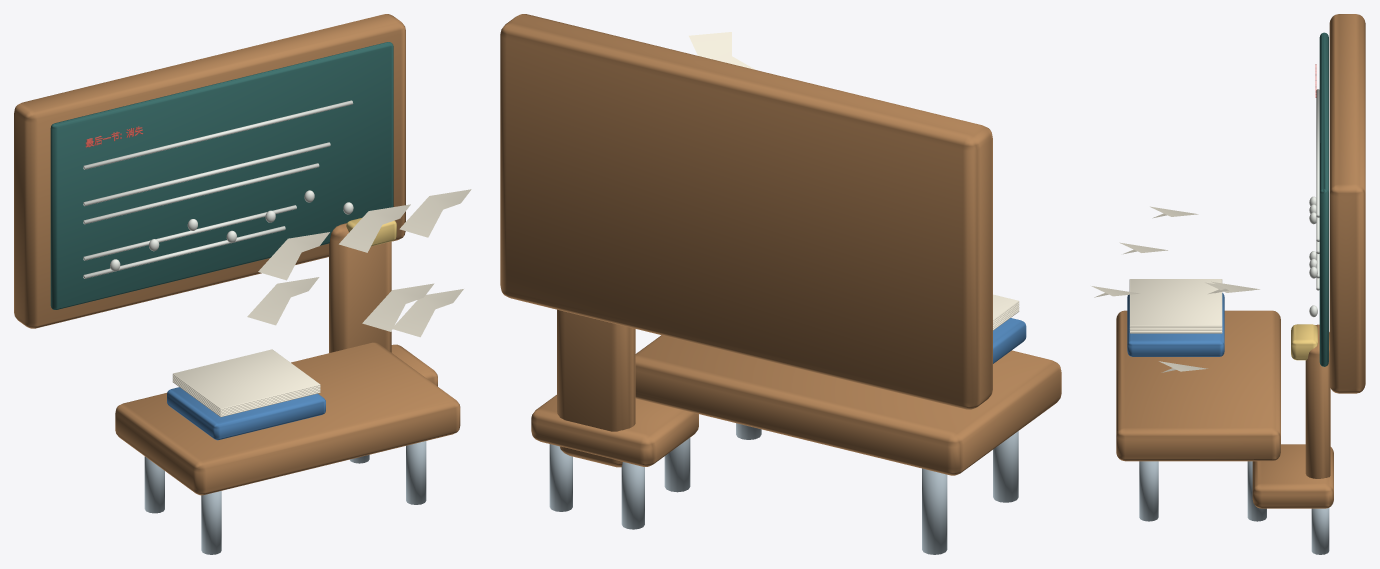
The model's file is X07_Vanishing_Last_Classroom_Lesson.glb.
3 renders of one model, left to right at view 1: azimuth 30°, elevation 25°; view 2: azimuth 150°, elevation 25°; view 3: azimuth 270°, elevation 25°, orthographic. The views are drawn at different scales.
Visible parts, largest first — view 1: X07 actual dark green board usable painting inset, X07 real blackboard behind vanished final classroom period, X07 actual original school vintage three-legged desk, X07_PAGES_ACTOR | Aged cream classroom note paper, X07_CHAIR_ACTOR | School historic walnut desk real wood, X07_DISAPPEARING_TEXT_ACTOR | Chalk ivory chalk residue draw, X07_TEXTBOOK_ACTOR | Aged cream classroom note paper, X07 school final period hardback textbook cover, X07_DESK_ACTOR | School stainless desk leg and analog hinge; view 2: X07 real blackboard behind vanished final classroom period, X07 actual original school vintage three-legged desk, X07_CHAIR_ACTOR | School historic walnut desk real wood, X07_DESK_ACTOR | School stainless desk leg and analog hinge, X07_CHAIR_ACTOR | School stainless desk leg and analog hinge, X07_PAGES_ACTOR | Aged cream classroom note paper, X07 school final period hardback textbook cover; view 3: X07 actual original school vintage three-legged desk, X07 real blackboard behind vanished final classroom period, X07_CHAIR_ACTOR | School historic walnut desk real wood, X07_TEXTBOOK_ACTOR | Aged cream classroom note paper, X07 actual dark green board usable painting inset, X07 school final period hardback textbook cover, X07_DESK_ACTOR | School stainless desk leg and analog hinge, X07_PAGES_ACTOR | Aged cream classroom note paper, X07_DISAPPEARING_TEXT_ACTOR | Chalk ivory chalk residue draw, X07_CHAIR_ACTOR | School stainless desk leg and analog hinge, X07 last lesson classroom actual brass end of day bell.
Part boxes in pixels (left/top/right/bottom): X07 actual dark green board usable painting inset: left=50, top=42, right=393, bottom=309; X07 real blackboard behind vanished final classroom period: left=14, top=14, right=405, bottom=328; X07 actual original school vintage three-legged desk: left=115, top=342, right=460, bottom=495; X07_PAGES_ACTOR | Aged cream classroom note paper: left=247, top=189, right=471, bottom=337; X07_CHAIR_ACTOR | School historic walnut desk real wood: left=329, top=223, right=437, bottom=386; X07_DISAPPEARING_TEXT_ACTOR | Chalk ivory chalk residue draw: left=83, top=100, right=353, bottom=278; X07_TEXTBOOK_ACTOR | Aged cream classroom note paper: left=172, top=349, right=320, bottom=417; X07 school final period hardback textbook cover: left=167, top=387, right=325, bottom=440; X07_DESK_ACTOR | School stainless desk leg and analog hinge: left=144, top=441, right=426, bottom=554; X07 real blackboard behind vanished final classroom period: left=500, top=14, right=992, bottom=409; X07 actual original school vintage three-legged desk: left=635, top=335, right=1061, bottom=475; X07_CHAIR_ACTOR | School historic walnut desk real wood: left=531, top=309, right=698, bottom=467; X07_DESK_ACTOR | School stainless desk leg and analog hinge: left=664, top=423, right=1018, bottom=554; X07_CHAIR_ACTOR | School stainless desk leg and analog hinge: left=549, top=444, right=644, bottom=529; X07_PAGES_ACTOR | Aged cream classroom note paper: left=689, top=32, right=755, bottom=69; X07 school final period hardback textbook cover: left=993, top=318, right=1026, bottom=363; X07 actual original school vintage three-legged desk: left=1116, top=310, right=1280, bottom=461; X07 real blackboard behind vanished final classroom period: left=1329, top=14, right=1365, bottom=393; X07_CHAIR_ACTOR | School historic walnut desk real wood: left=1252, top=324, right=1333, bottom=508; X07_TEXTBOOK_ACTOR | Aged cream classroom note paper: left=1129, top=279, right=1222, bottom=333; X07 actual dark green board usable painting inset: left=1319, top=32, right=1328, bottom=366; X07 school final period hardback textbook cover: left=1127, top=293, right=1224, bottom=356; X07_DESK_ACTOR | School stainless desk leg and analog hinge: left=1139, top=461, right=1266, bottom=521; X07_PAGES_ACTOR | Aged cream classroom note paper: left=1091, top=206, right=1259, bottom=372; X07_DISAPPEARING_TEXT_ACTOR | Chalk ivory chalk residue draw: left=1309, top=89, right=1319, bottom=317; X07_CHAIR_ACTOR | School stainless desk leg and analog hinge: left=1311, top=508, right=1329, bottom=554; X07 last lesson classroom actual brass end of day bell: left=1291, top=324, right=1317, bottom=360.
Bounding box in the file's own units: 1.86 × 1.84 × 1.22.
